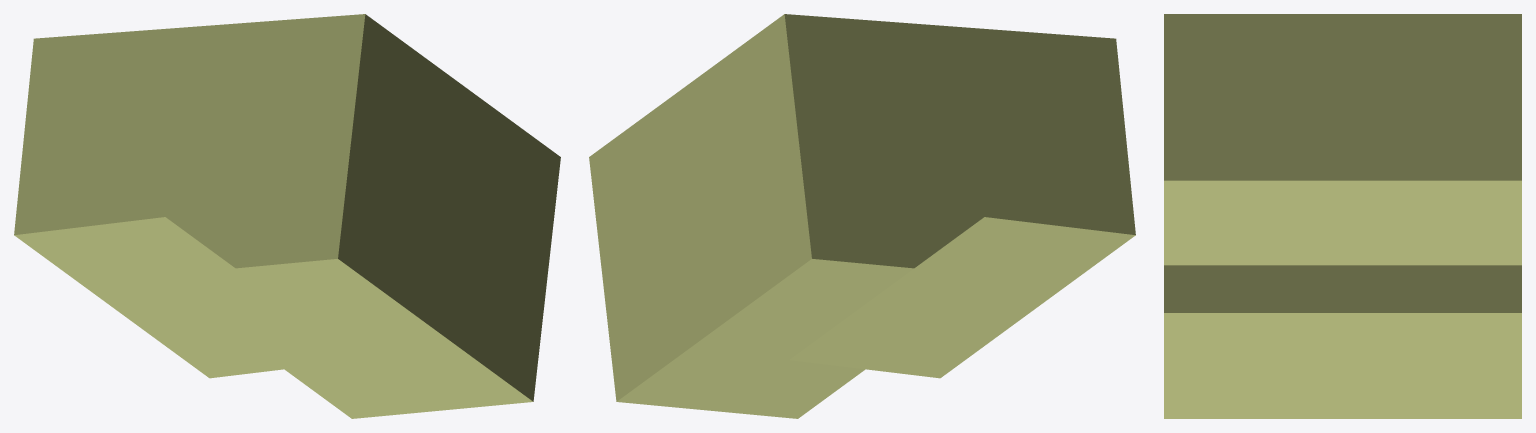
The picture shows the model from 3 angles, left to right: view 1: azimuth 30°, elevation 25°; view 2: azimuth 150°, elevation 25°; view 3: azimuth 270°, elevation 25°; orthographic projection. The views are drawn at different scales.
Parts seen in each view (by area): view 1: 0_1_1_3_3_1_3_0_0_3_0; view 2: 0_1_1_3_3_1_3_0_0_3_0; view 3: 0_1_1_3_3_1_3_0_0_3_0.
Boxes of the visible parts, x1,y1,x2,y2 form: 0_1_1_3_3_1_3_0_0_3_0: [14, 14, 560, 418]; 0_1_1_3_3_1_3_0_0_3_0: [589, 14, 1135, 418]; 0_1_1_3_3_1_3_0_0_3_0: [1164, 14, 1521, 418].
Size of the model in its own units: 9.34 by 7.47 by 9.
